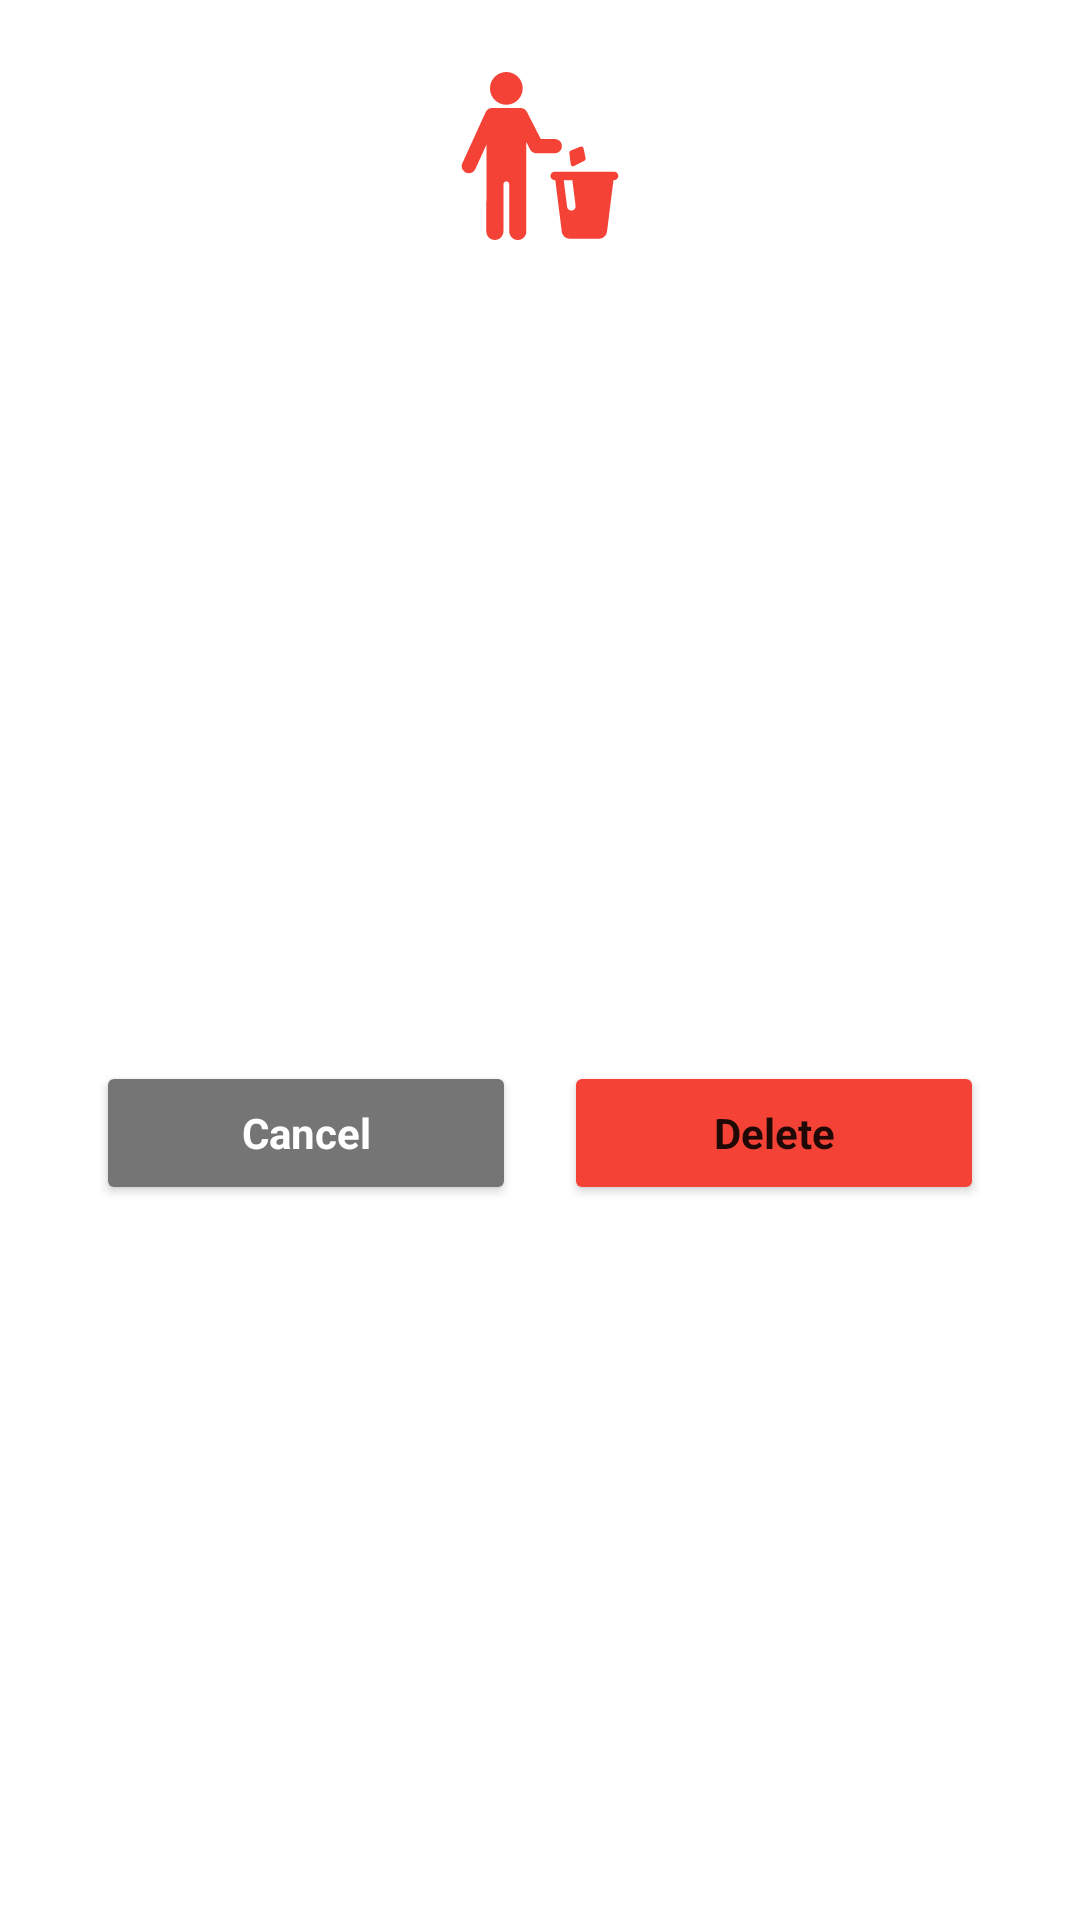

Point at icon controls on the screen. Image size 1080*1920, points as [x,y].
trash: [540,156]
